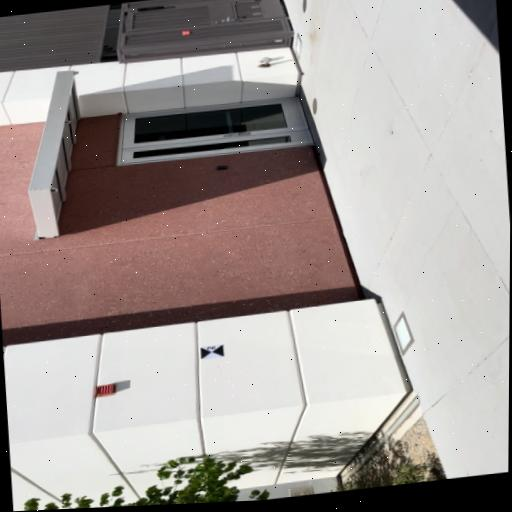target2: (200, 344, 224, 359)
